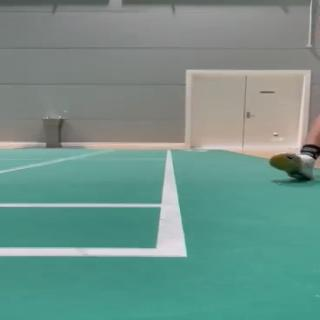Shuttle: (269, 132, 284, 141)
